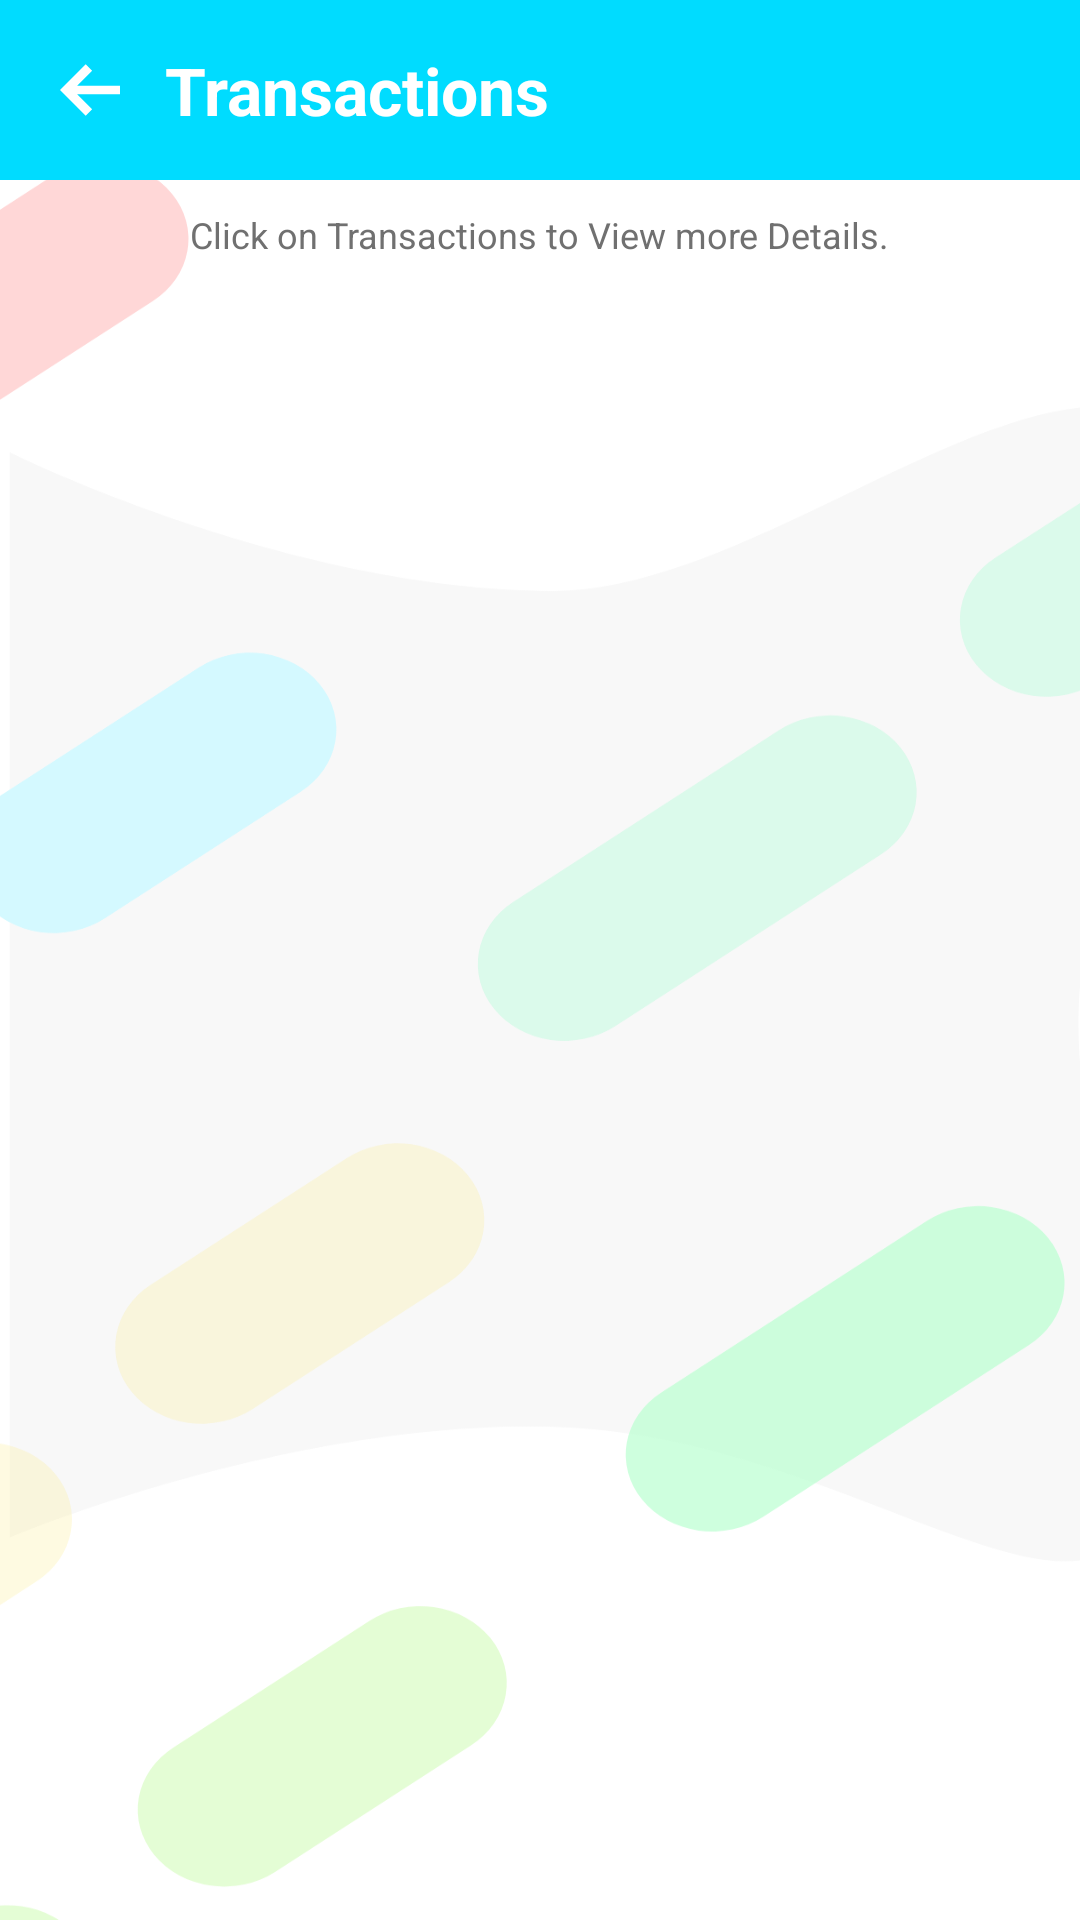

Icon click points for this 1080 × 1920 phone screenshot, format (x=x, y=y):
left arrow: (x=90, y=90)
